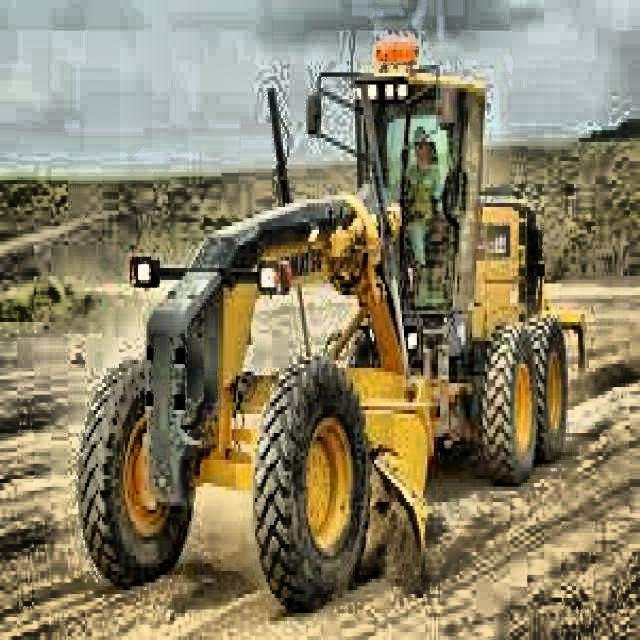bull_dozer/loader/grader: (78, 26, 586, 612)
person: (408, 122, 446, 255)
